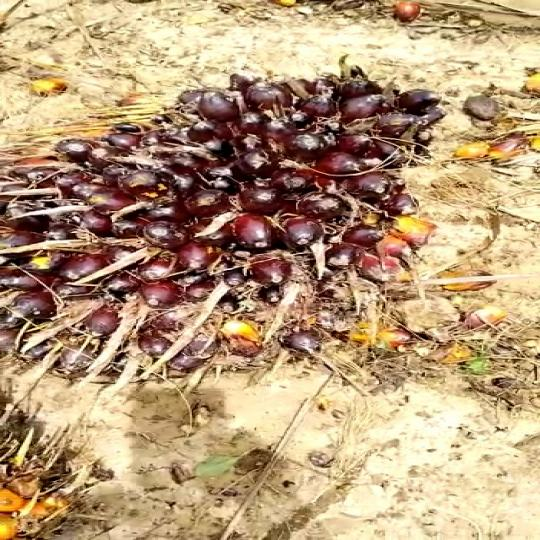mentah: (7, 60, 455, 386)
